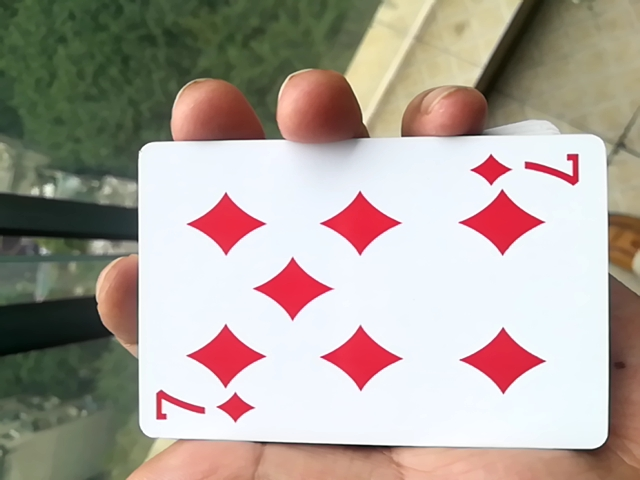fk 7: (123, 134, 610, 456)
